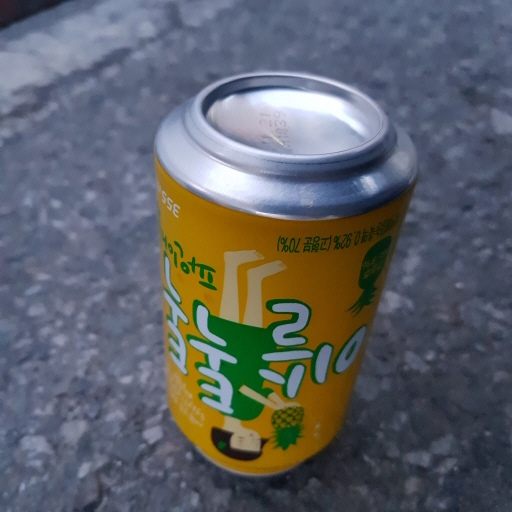Metal_0: (148, 67, 421, 476)
